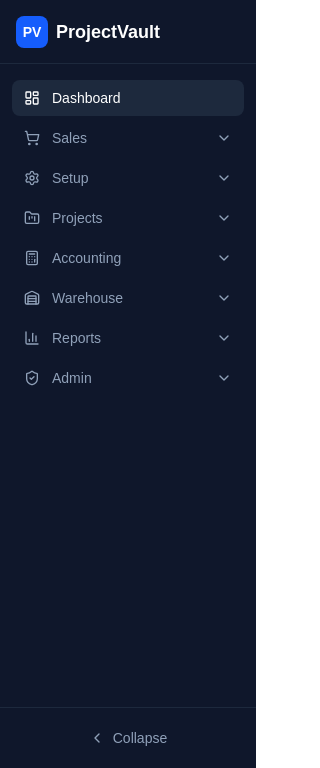
Test case: Sidebar › collapses group when clicking expanded section
// Expand Sales
Step 1. Click the button "Sales" → (128, 138), box [12, 120, 244, 156]
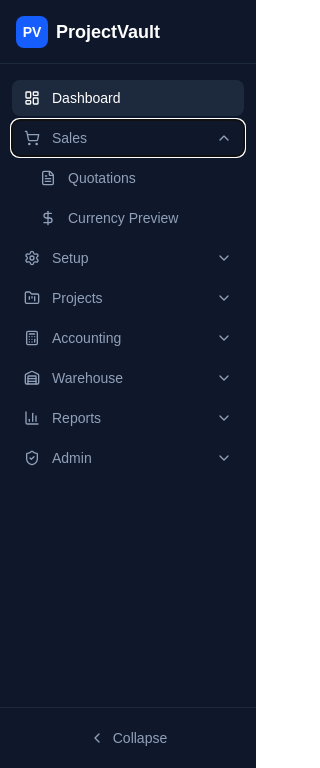
Now the text "Quotations" is shown, box [68, 168, 136, 188]
// Collapse Sales
Step 2. Click the button "Sales" → (128, 138), box [12, 120, 244, 156]
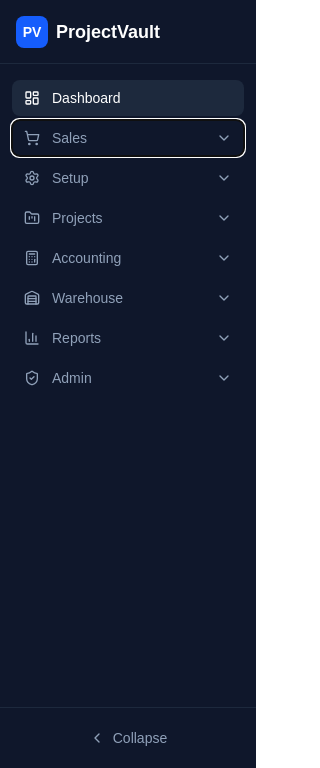
Now the link "Quotations" is gone
